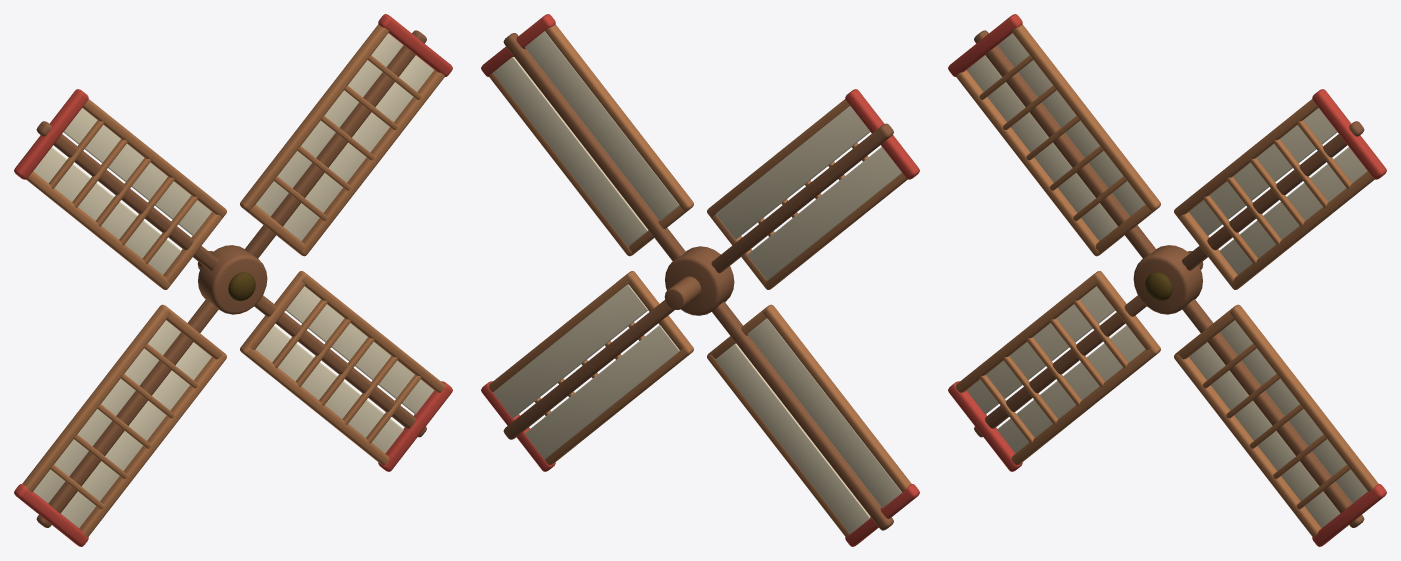
The model's file is windmill_sails.glb.
3 renders of one model, left to right at view 1: azimuth 30°, elevation 25°; view 2: azimuth 150°, elevation 25°; view 3: azimuth 330°, elevation 25°, orthographic.
Parts seen in each view (by area): view 1: windmill_sails; view 2: windmill_sails; view 3: windmill_sails.
Part boxes in pixels (x1,y1,x2,y2): windmill_sails: [14, 14, 452, 546]; windmill_sails: [481, 14, 919, 546]; windmill_sails: [948, 14, 1386, 546].
Size of the model in its own units: 14.86 by 14.86 by 2.32.
Materials: 2 (2 with a texture image).
